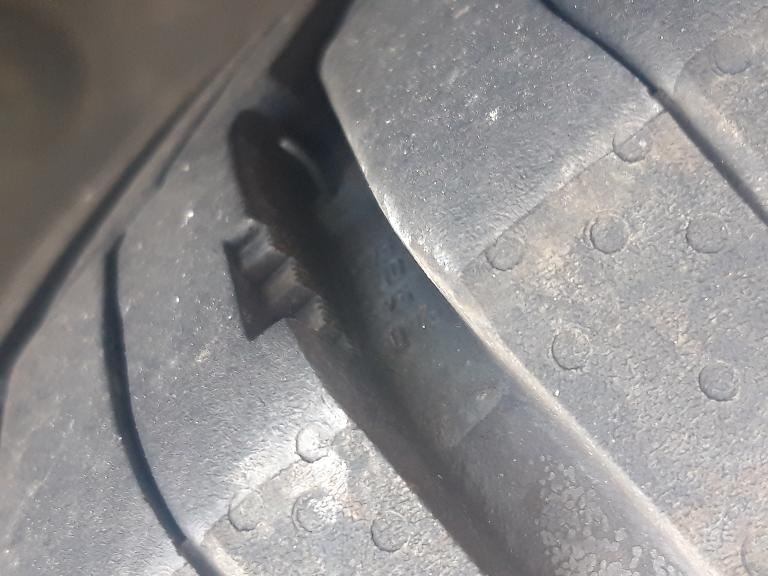temoin:90: (212, 191, 384, 370)
